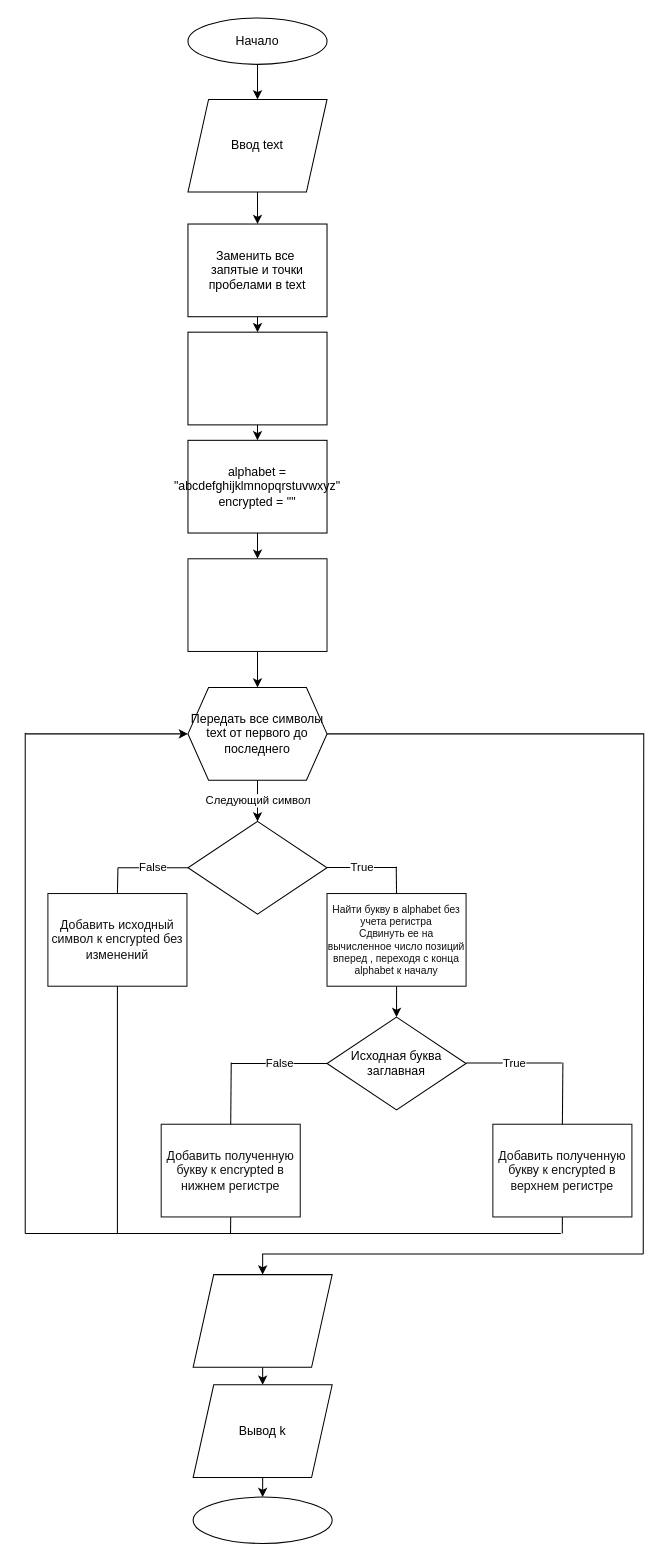
This 663x1561 diagram has some shape labels left out. Here are the shapes that lost their labels. From the top down, the box of each, then its label:
(187, 331, 327, 425): Передать в words разделенный по пробелам text
(187, 558, 327, 651): Определить величину сдвига в переменной k: длину самого длинного слова в words
(187, 820, 327, 914): Символ - буква из alphabet
(192, 1274, 332, 1367): Вывод encrypted
(192, 1496, 332, 1543): Конец
